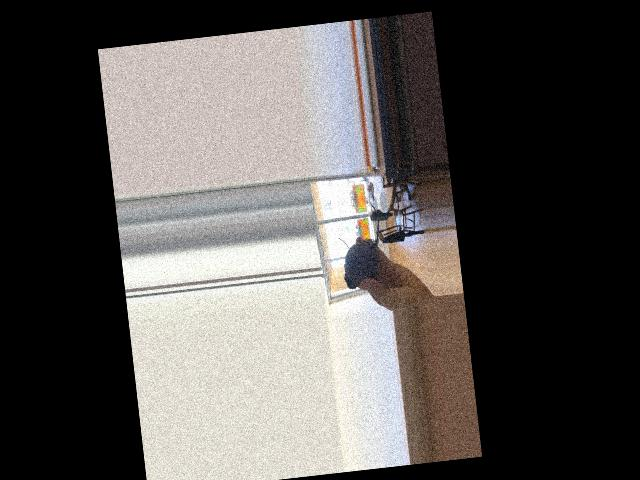beet: (336, 202, 386, 289)
